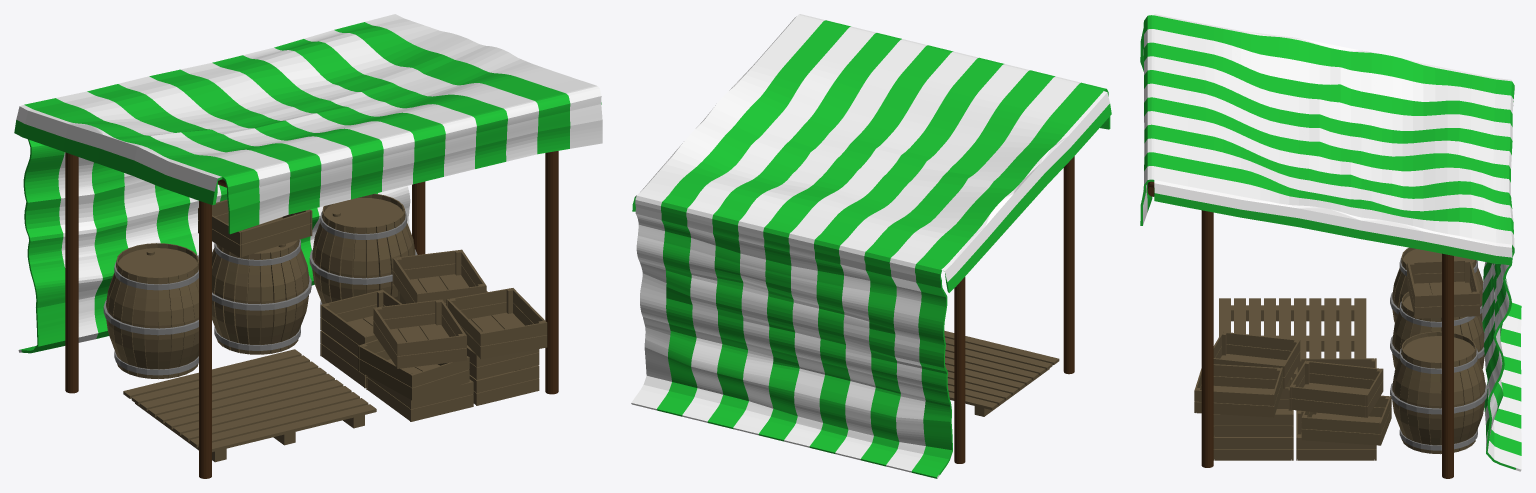
Rendered from targ_sell.fbx.
3 views of the same model, side by side, from view 1: azimuth 30°, elevation 25°; view 2: azimuth 150°, elevation 25°; view 3: azimuth 270°, elevation 25° (orthographic). The views are drawn at different scales.
Visible parts, largest first — view 1: Cube.029, Cube.033, Cylinder.020, Cylinder.017, Cylinder.018, Cylinder.019, Cube.028, Cube.026, Cube.027, Cube.024, Cube.030, Cube.025 (+4 smaller); view 2: Cube.029, Cube.033, Cylinder.017; view 3: Cube.029, Cylinder.019, Cube.033, Cylinder.017, Cube.027, Cube.026, Cube.030, Cube.028, Cube.022, Cylinder.018, Cube.021, Cube.023 (+3 smaller).
Boxes of the visible parts, bbox=[...] form: Cube.029: bbox=[14, 14, 602, 353]; Cube.033: bbox=[123, 349, 376, 462]; Cylinder.020: bbox=[103, 243, 198, 379]; Cylinder.017: bbox=[65, 151, 558, 478]; Cylinder.018: bbox=[212, 239, 311, 354]; Cylinder.019: bbox=[309, 193, 417, 304]; Cube.028: bbox=[373, 299, 466, 368]; Cube.026: bbox=[446, 288, 547, 358]; Cube.027: bbox=[392, 249, 486, 304]; Cube.024: bbox=[358, 339, 469, 400]; Cube.030: bbox=[198, 199, 312, 257]; Cube.025: bbox=[320, 289, 402, 356]; Cube.029: bbox=[631, 14, 1111, 478]; Cube.033: bbox=[944, 330, 1059, 416]; Cylinder.017: bbox=[954, 156, 1074, 463]; Cube.029: bbox=[1140, 14, 1521, 471]; Cylinder.019: bbox=[1390, 331, 1487, 454]; Cube.033: bbox=[1219, 298, 1366, 381]; Cylinder.017: bbox=[1147, 181, 1453, 478]; Cube.027: bbox=[1289, 360, 1383, 417]; Cube.026: bbox=[1194, 364, 1282, 417]; Cube.030: bbox=[1407, 260, 1479, 318]; Cube.028: bbox=[1213, 331, 1300, 388]; Cube.022: bbox=[1301, 395, 1391, 445]; Cylinder.018: bbox=[1390, 285, 1484, 369]; Cube.021: bbox=[1213, 387, 1293, 437]; Cube.023: bbox=[1213, 436, 1293, 460].
Bounding box in the file's own units: 674 × 557 × 634.
